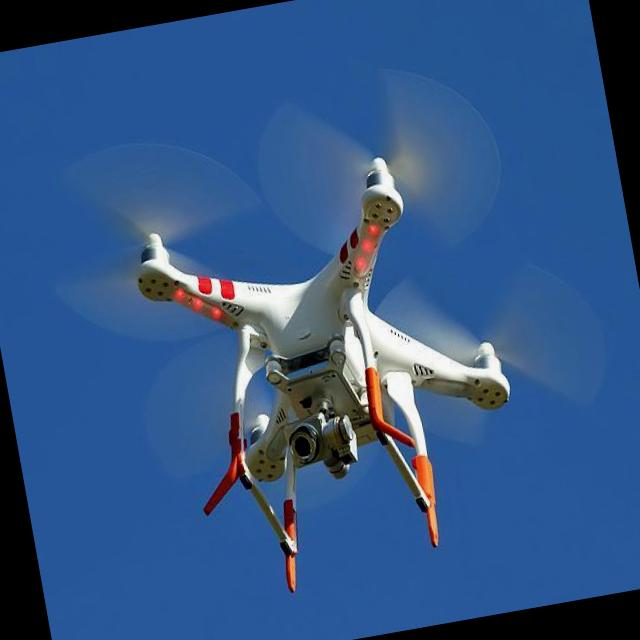drone: (119, 138, 538, 612)
